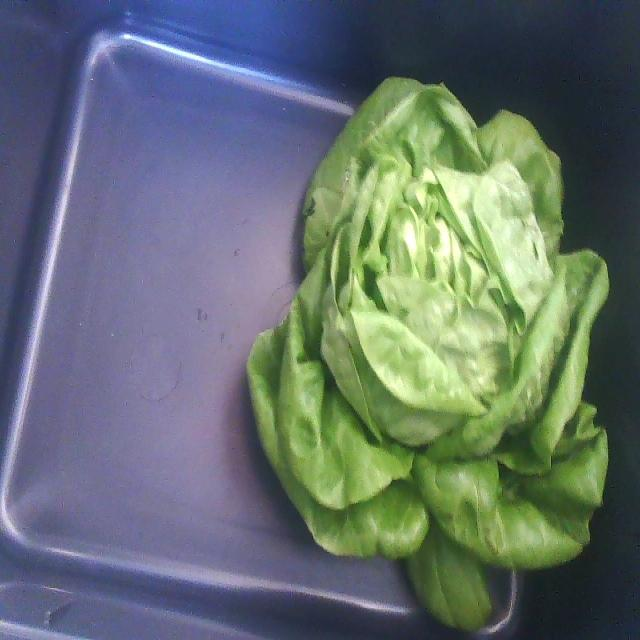Lettuce-plant: (247, 79, 608, 629)
